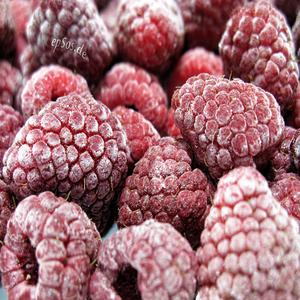raspb: (6, 1, 299, 300)
